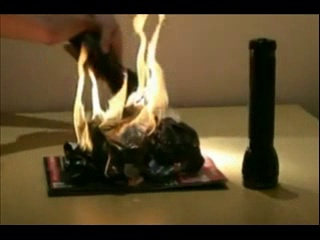fire: (127, 14, 172, 136), (88, 43, 127, 149), (69, 39, 86, 156)
